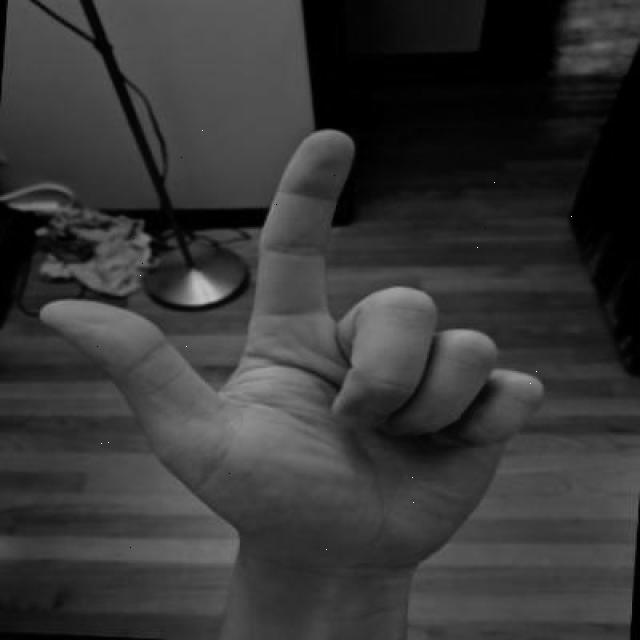L: (17, 108, 572, 583)
